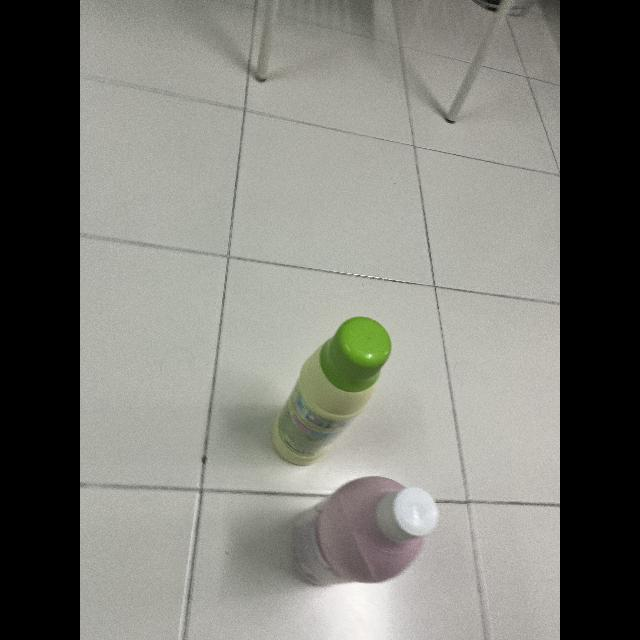chemical_plastic_bottle: (268, 310, 396, 468), (279, 472, 439, 586)
